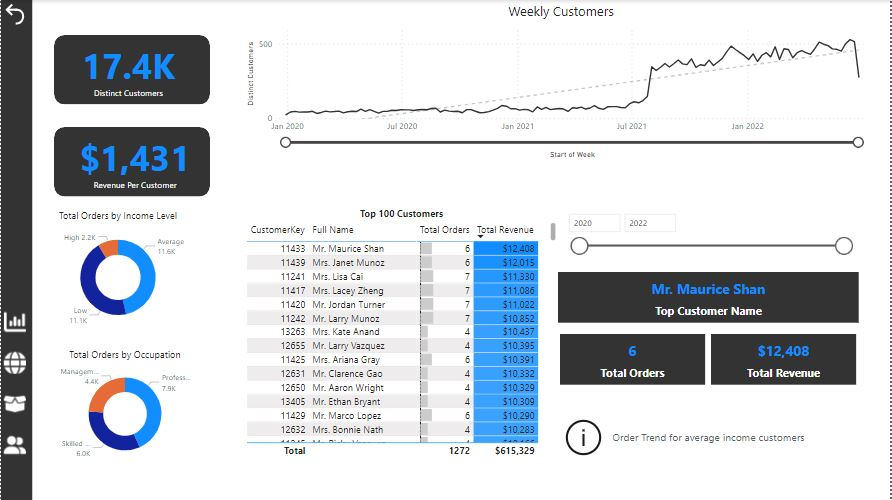

Layout of this report page (visuals, bound fields, positions):
{"tool":"powerbi","page":{"name":"Customer Detail","canvas":[1280,720],"ordinal":3},"visuals":[{"type":"shape","box":[0,0,45,720],"z":0},{"type":"shape","box":[76.9,50.8,224.6,100],"z":1000},{"type":"shape","box":[76.9,183.1,224.6,100],"z":2000},{"type":"card","fields":{"Values":["Measure Table.Distinct Customers"]},"box":[66.2,0,234.7,201.6],"z":3000},{"type":"card","fields":{"Values":["Measure Table.Average Revenue Per Customer"]},"box":[76.9,132.3,233.8,201.5],"z":4000},{"type":"lineChart","title":"Weekly Customers","fields":{"Y":["Measure Table.Distinct Customers"],"Category":["Calendar Lookup.Year","Calendar Lookup.Start of Week","Calendar Lookup.Date"]},"box":[348.5,2.9,915.8,230.4],"z":5000},{"type":"donutChart","title":"Total Orders by Income Level","fields":{"Category":["Customer Lookup.Income Level"],"Y":["Measure Table.Total Orders"]},"box":[66.2,301,204.5,180],"z":6000},{"type":"donutChart","title":"Total Orders by Occupation","fields":{"Y":["Measure Table.Total Orders"],"Category":["Customer Lookup.Occupation"]},"box":[76.3,501.1,204.5,172.8],"z":7000},{"type":"tableEx","title":"Top 100 Customers","fields":{"Values":["Customer Lookup.CustomerKey","Customer Lookup.Full Name","Measure Table.Total Orders","Measure Table.Total Revenue"]},"box":[348.5,298.1,456.5,364.3],"z":8000},{"type":"card","fields":{"Values":["Customer Lookup.Full Name"]},"box":[802.1,391.7,433.4,73.4],"z":9000},{"type":"card","fields":{"Values":["Measure Table.Total Orders"]},"box":[805,481,208.8,73.4],"z":10000},{"type":"card","fields":{"Values":["Measure Table.Total Revenue"]},"box":[1022.4,481,208.8,73.4],"z":11000},{"type":"slicer","fields":{"Values":["Calendar Lookup.Year"]},"box":[805,298.1,430.6,77.8],"z":12000},{"type":"actionButton","box":[0,0,44.6,40.3],"z":12001},{"type":"actionButton","box":[806.4,597.6,424.8,64.8],"z":12002},{"type":"actionButton","box":[0,443.5,44.6,40.3],"z":12003},{"type":"actionButton","box":[0,502.6,44.6,40.3],"z":12004},{"type":"actionButton","box":[0,561.6,44.6,40.3],"z":12005},{"type":"actionButton","box":[0,620.6,44.6,40.3],"z":12006}]}

Visuals, with their boxes on the page's 1280x720 design canvas (x1, y1, x2, y2). These are canvas units, not pixel positions in the 892x500 screenshot, which may show the page scaled, cropped or inside an application window:
shape: 0,0,45,720
shape: 77,51,302,151
shape: 77,183,302,283
card - Measure Table.Distinct Customers: 66,0,301,202
card - Measure Table.Average Revenue Per Customer: 77,132,311,334
"Weekly Customers" lineChart: 348,3,1264,233
"Total Orders by Income Level" donutChart: 66,301,271,481
"Total Orders by Occupation" donutChart: 76,501,281,674
"Top 100 Customers" tableEx: 348,298,805,662
card - Customer Lookup.Full Name: 802,392,1236,465
card - Measure Table.Total Orders: 805,481,1014,554
card - Measure Table.Total Revenue: 1022,481,1231,554
slicer - Calendar Lookup.Year: 805,298,1236,376
actionButton: 0,0,45,40
actionButton: 806,598,1231,662
actionButton: 0,444,45,484
actionButton: 0,503,45,543
actionButton: 0,562,45,602
actionButton: 0,621,45,661
